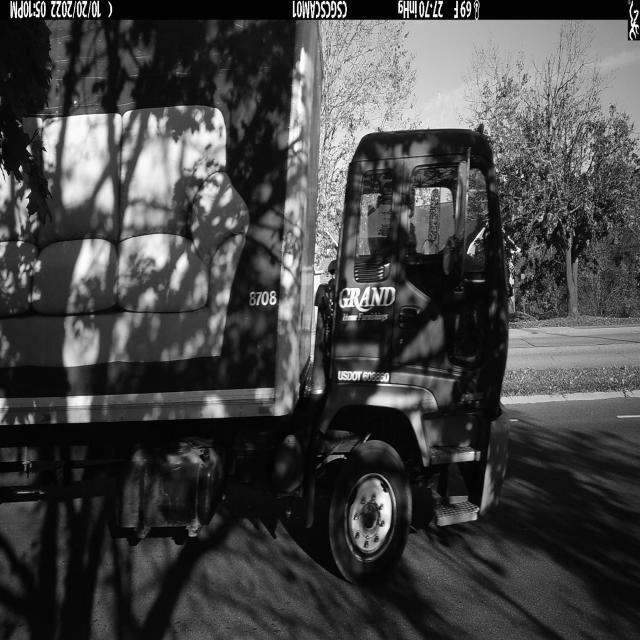Box Truck: (0, 18, 510, 583)
